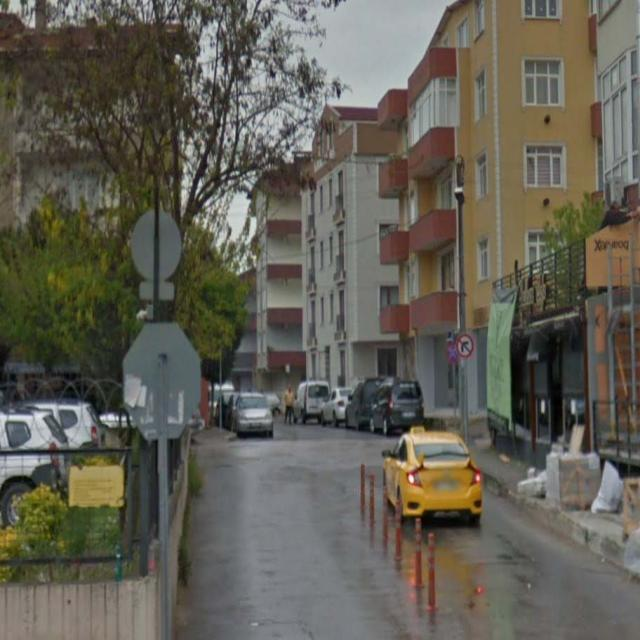sagadonulmez: (456, 333, 473, 358)
